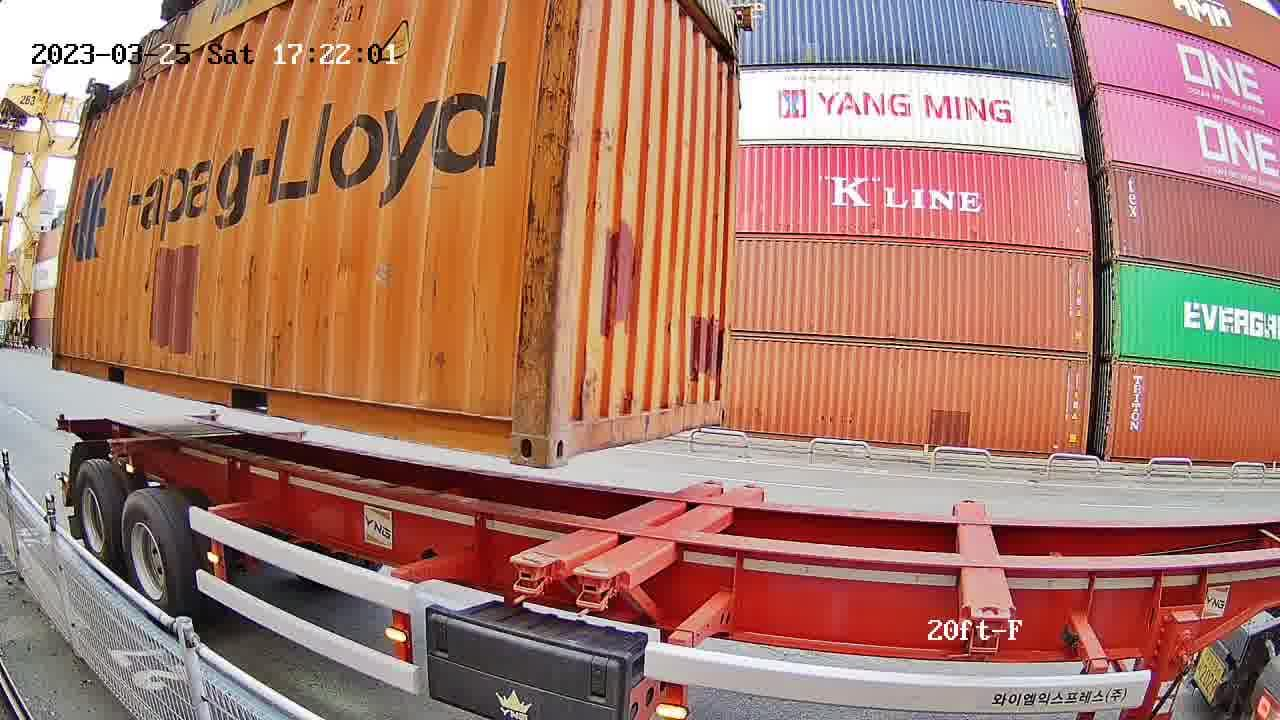Chassis: (577, 486, 763, 588), (513, 481, 723, 568)
Cone: (570, 564, 625, 623), (510, 552, 557, 604)
Hole_L: (547, 400, 596, 469)
Hole_R: (477, 398, 547, 468), (706, 388, 727, 426)
Tire: (121, 492, 180, 618), (74, 464, 117, 565)
